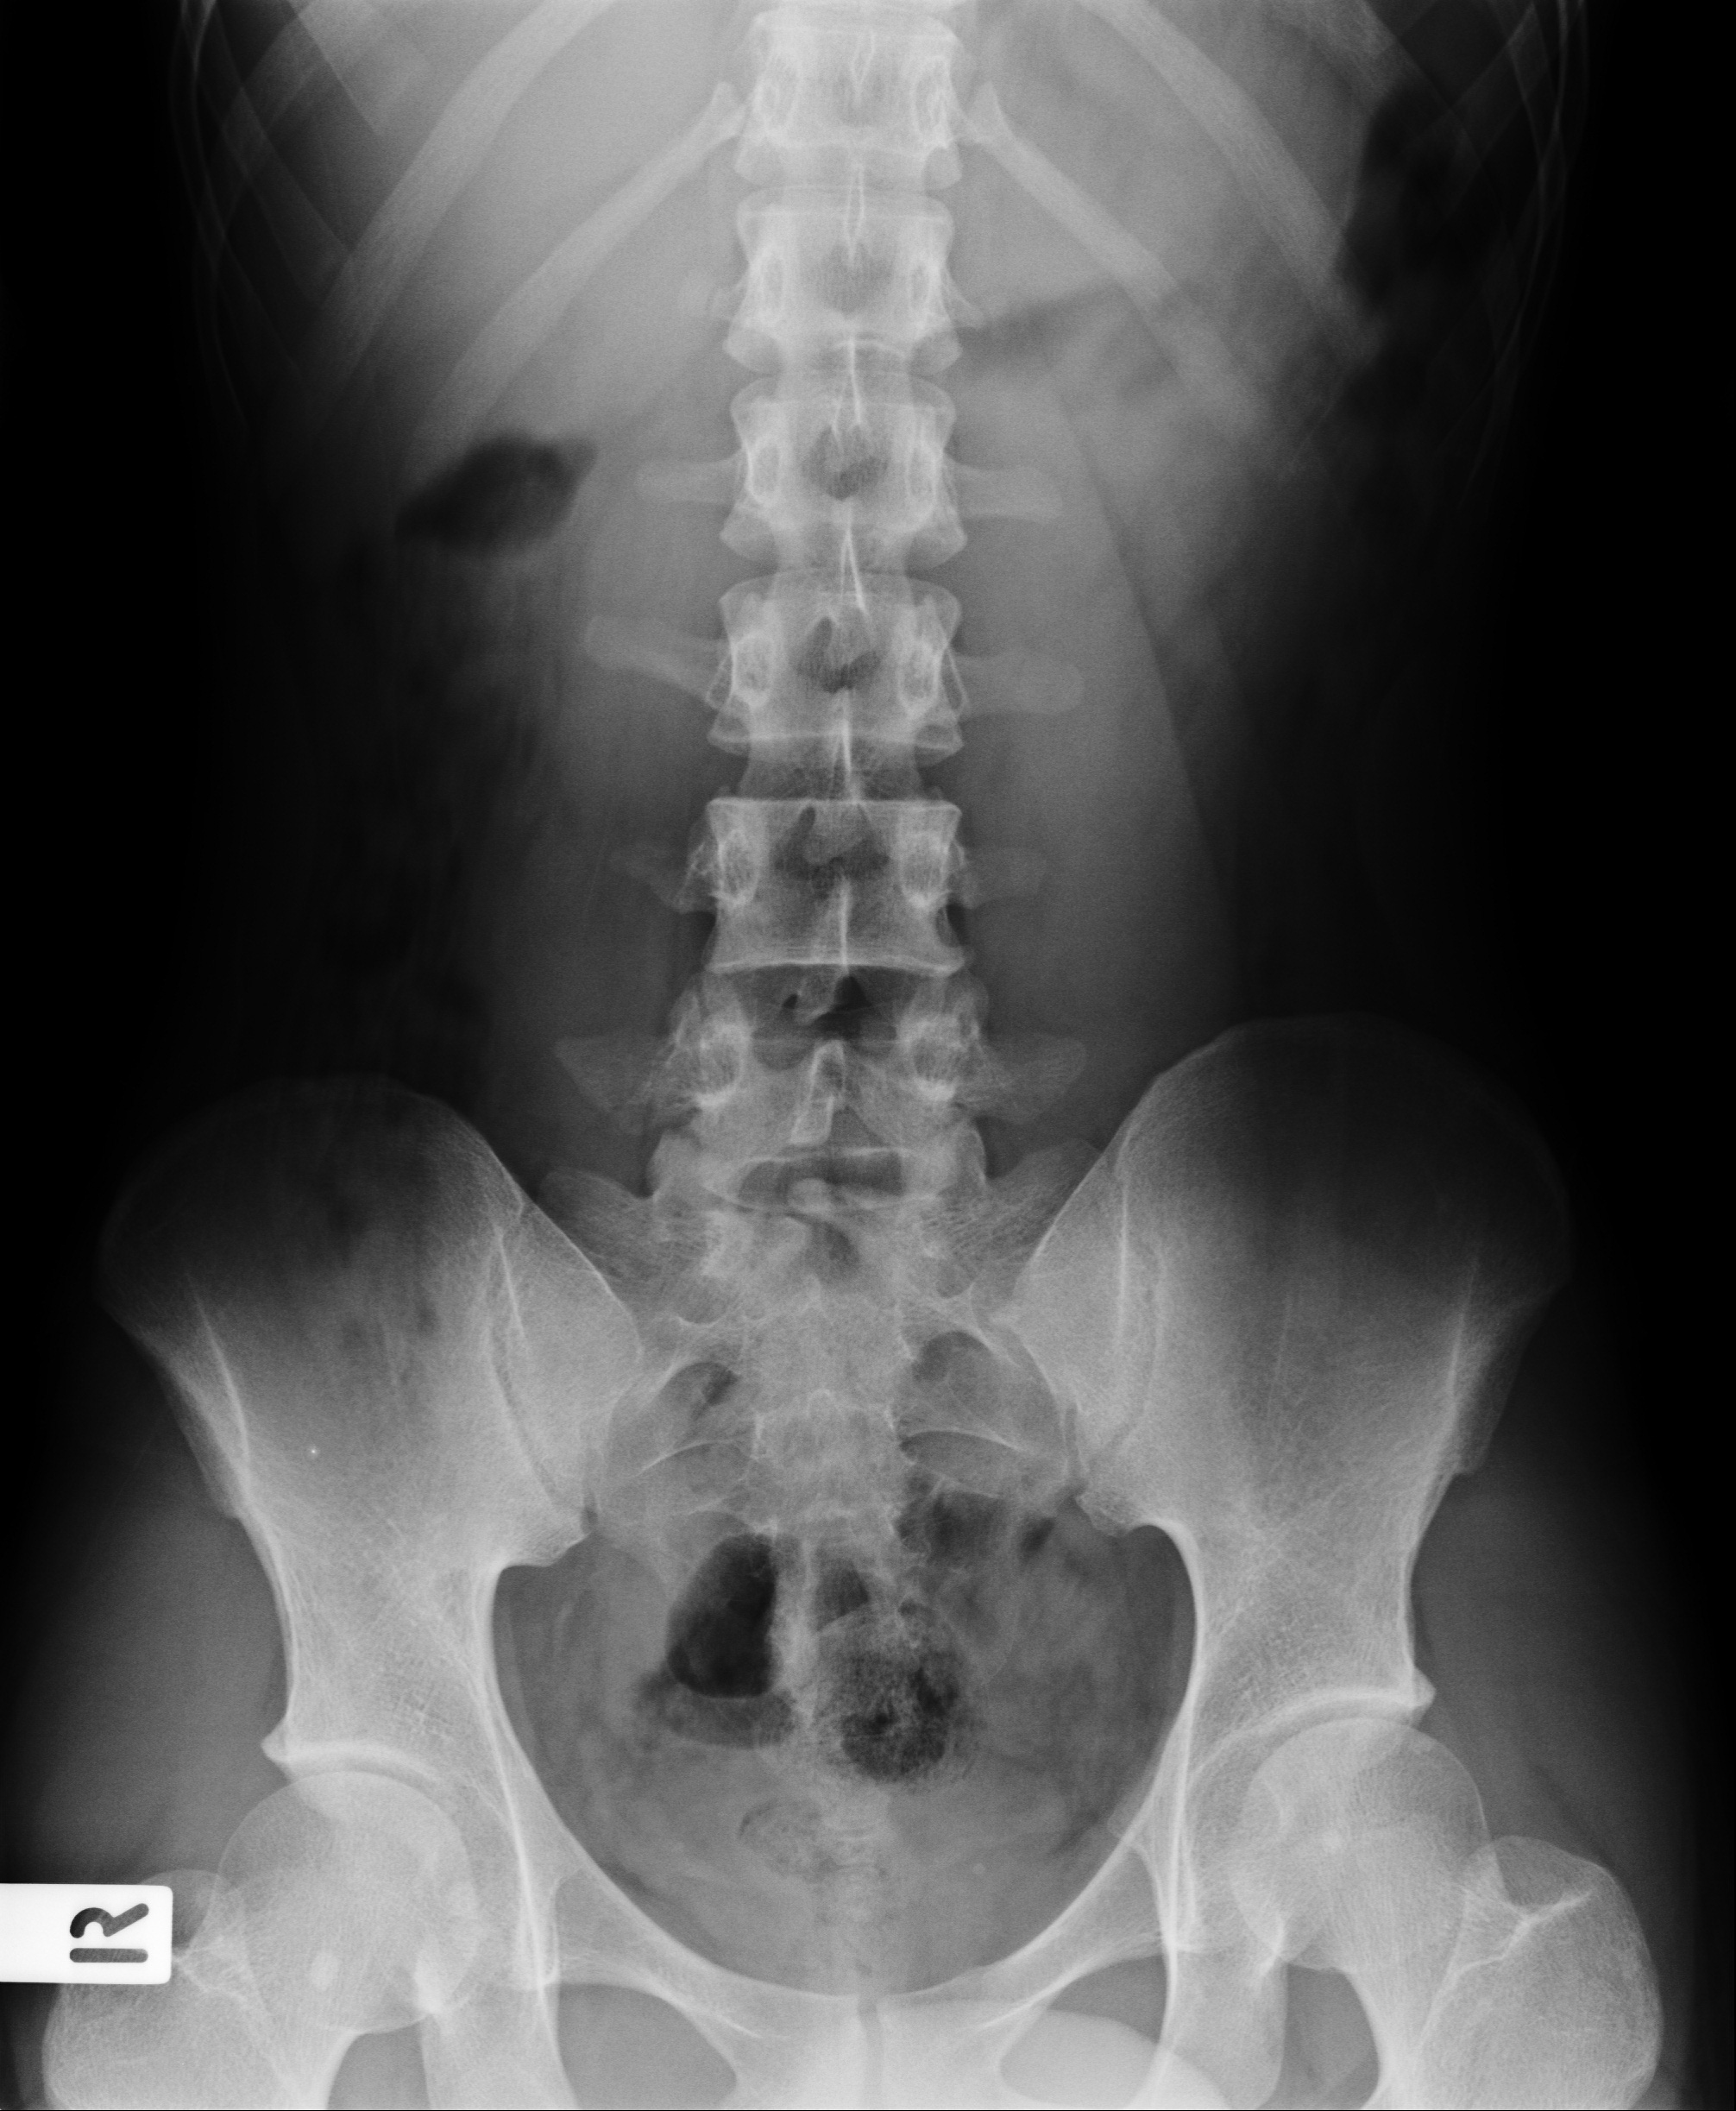lumbar scoliosis: (658, 12, 984, 1343)
